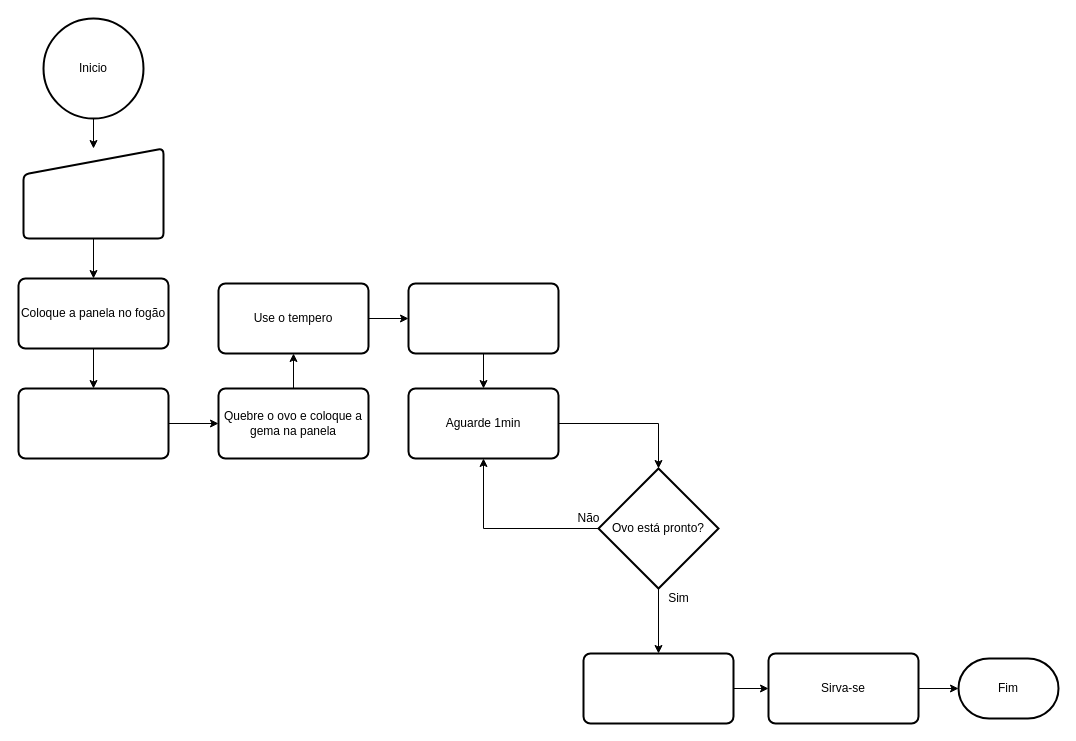
The diagram is 1076 pixels wide and 741 high, and some of its shapes have lost their labels. The shapes that lost their labels are listed below. From the top down, each one's centre as x and y in pixels, then its label:
(x=93, y=193): panela, ovo, fogao, tempero, azeite, utensilios
(x=483, y=318): Acenda o fogao
(x=93, y=423): Coloque o azeite na panela
(x=658, y=688): Desligue o fogo
